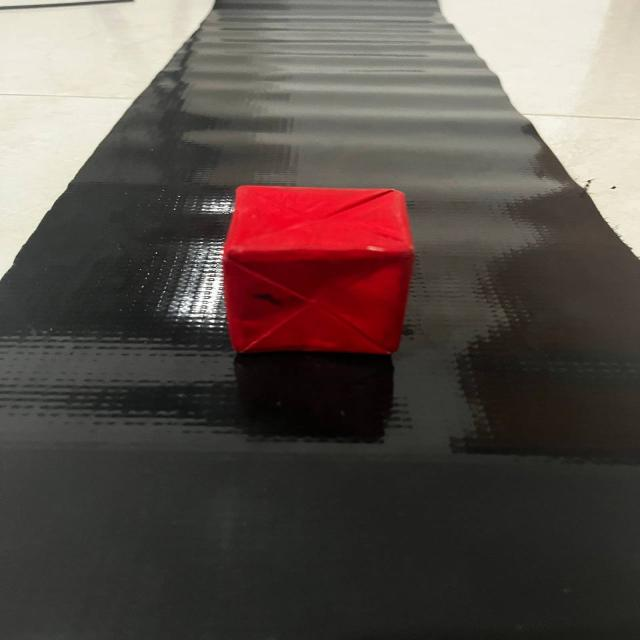Rojo: (205, 166, 424, 367)
